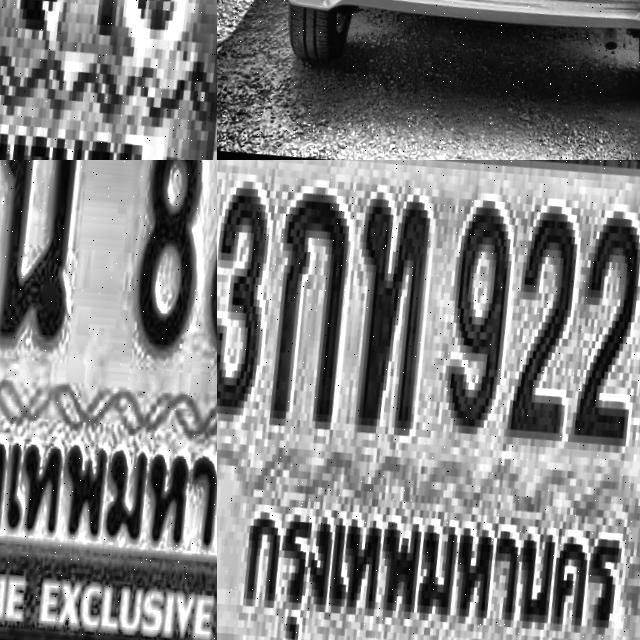license-plate: (217, 160, 640, 640), (0, 160, 217, 640), (0, 0, 217, 160)
